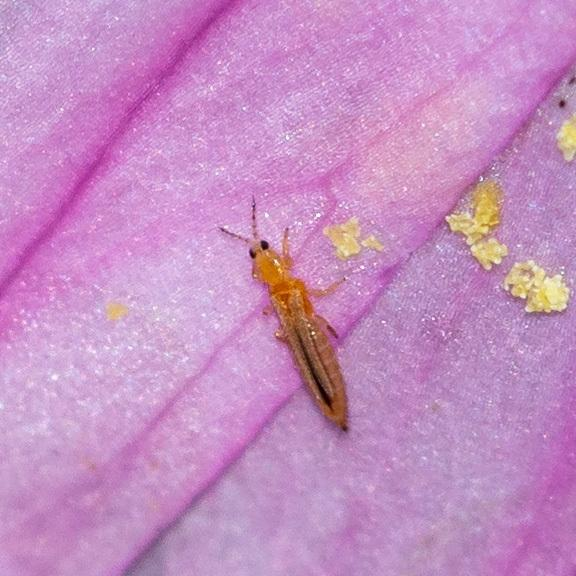tiny_pests: (193, 177, 396, 455)
